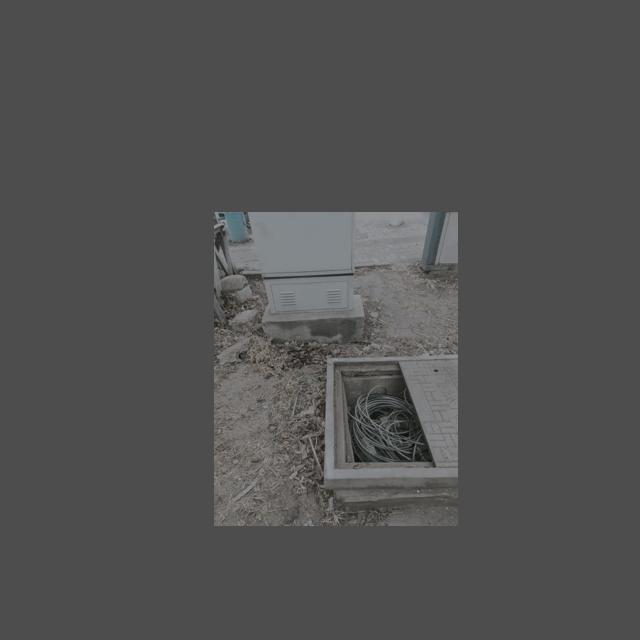lose: (323, 354, 458, 489)
